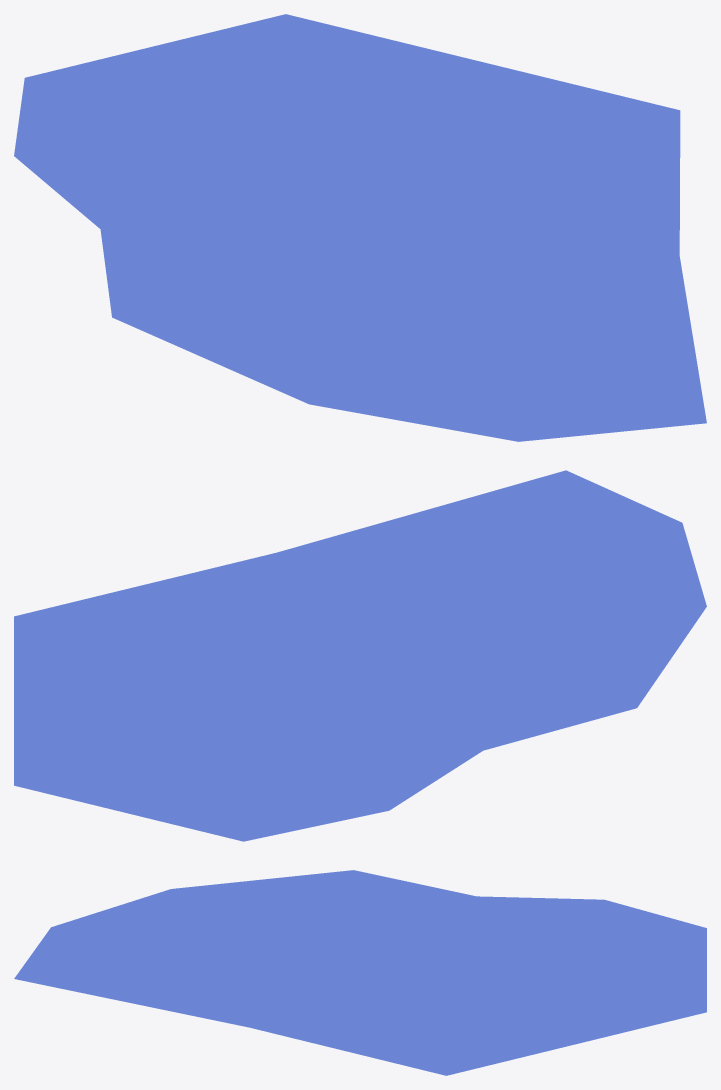
The model's file is hielo1.fbx.
3 renders of one model, top to bottom at view 1: azimuth 30°, elevation 25°; view 2: azimuth 150°, elevation 25°; view 3: azimuth 270°, elevation 25°, orthographic. The views are drawn at different scales.
Parts seen in each view (by area): view 1: Cylinder002; view 2: Cylinder002; view 3: Cylinder002.
Boxes of the visible parts, x1,y1,x2,y2 form: Cylinder002: [14, 14, 706, 441]; Cylinder002: [14, 470, 706, 841]; Cylinder002: [14, 870, 706, 1075].
Bounding box in the file's own units: 35.2 × 1.56e-07 × 50.08.
